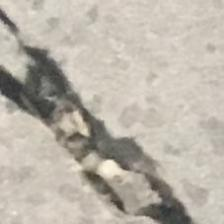Crack: (0, 8, 193, 224)
